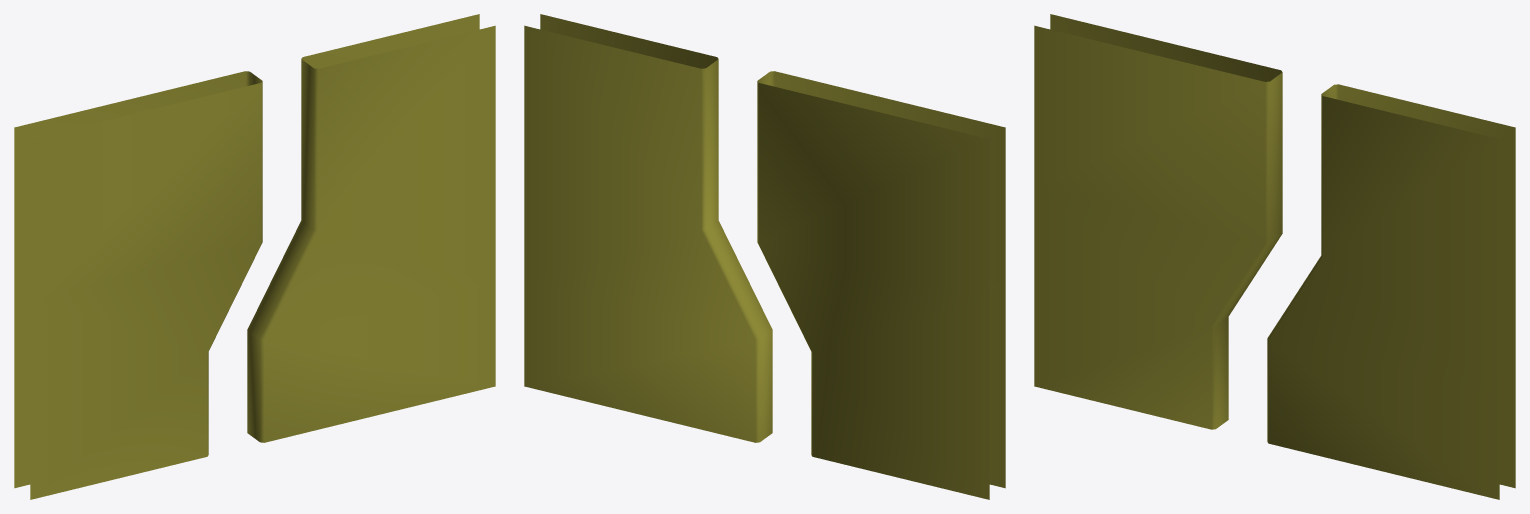
Rendered from BasicLow.FBX.
3 views of the same model, side by side, from view 1: azimuth 30°, elevation 25°; view 2: azimuth 150°, elevation 25°; view 3: azimuth 330°, elevation 25° (orthographic).
Visible parts, largest first — view 1: SM_BasicDoor_E; view 2: SM_BasicDoor_E; view 3: SM_BasicDoor_E.
Boxes of the visible parts, left/top/right/bottom form: SM_BasicDoor_E: left=14, top=14, right=495, bottom=499; SM_BasicDoor_E: left=524, top=14, right=1005, bottom=499; SM_BasicDoor_E: left=1034, top=14, right=1515, bottom=499.
Size of the model in its own units: 133 by 7.87 by 98.43.
